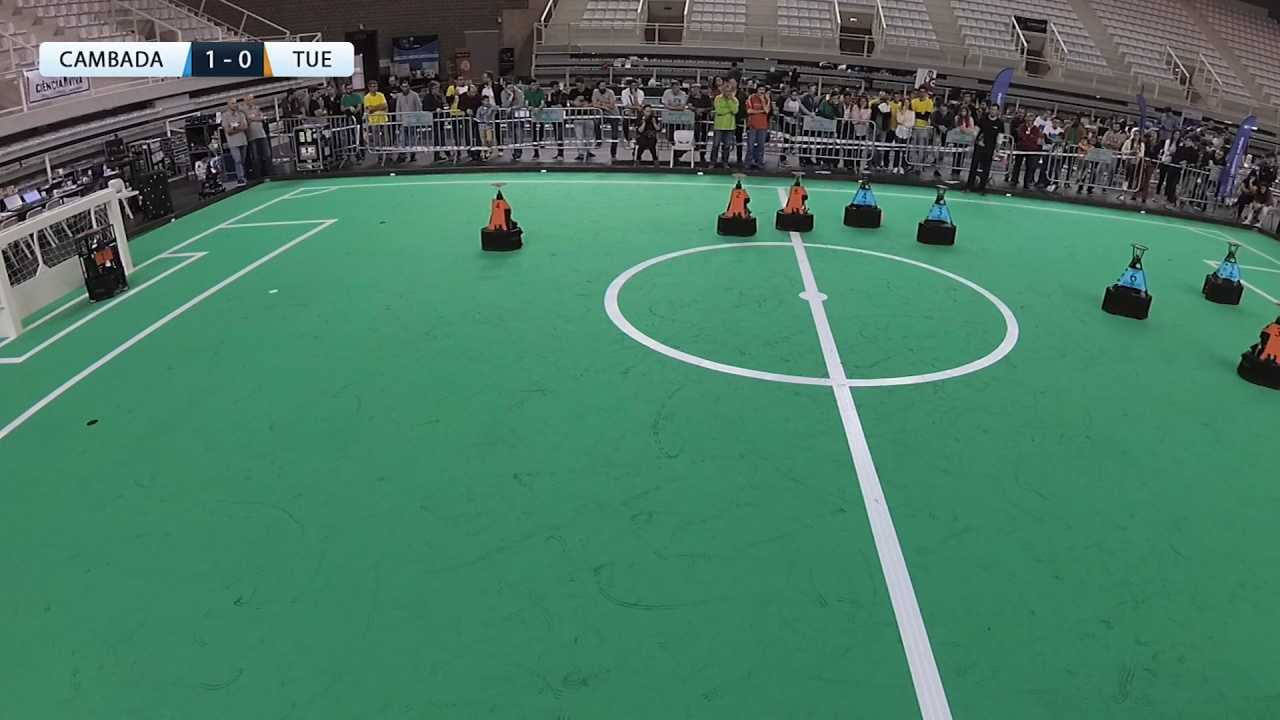BLUE2: (1192, 242, 1244, 306)
BLUE3: (915, 180, 959, 245)
BLUE4: (845, 172, 879, 228)
BLUE6: (1098, 244, 1155, 320)
RED2: (719, 172, 759, 240)
RED3: (1249, 309, 1280, 397)
RED4: (480, 175, 521, 255)
RED6: (778, 164, 814, 239)
R_Goalie: (71, 231, 125, 301)
